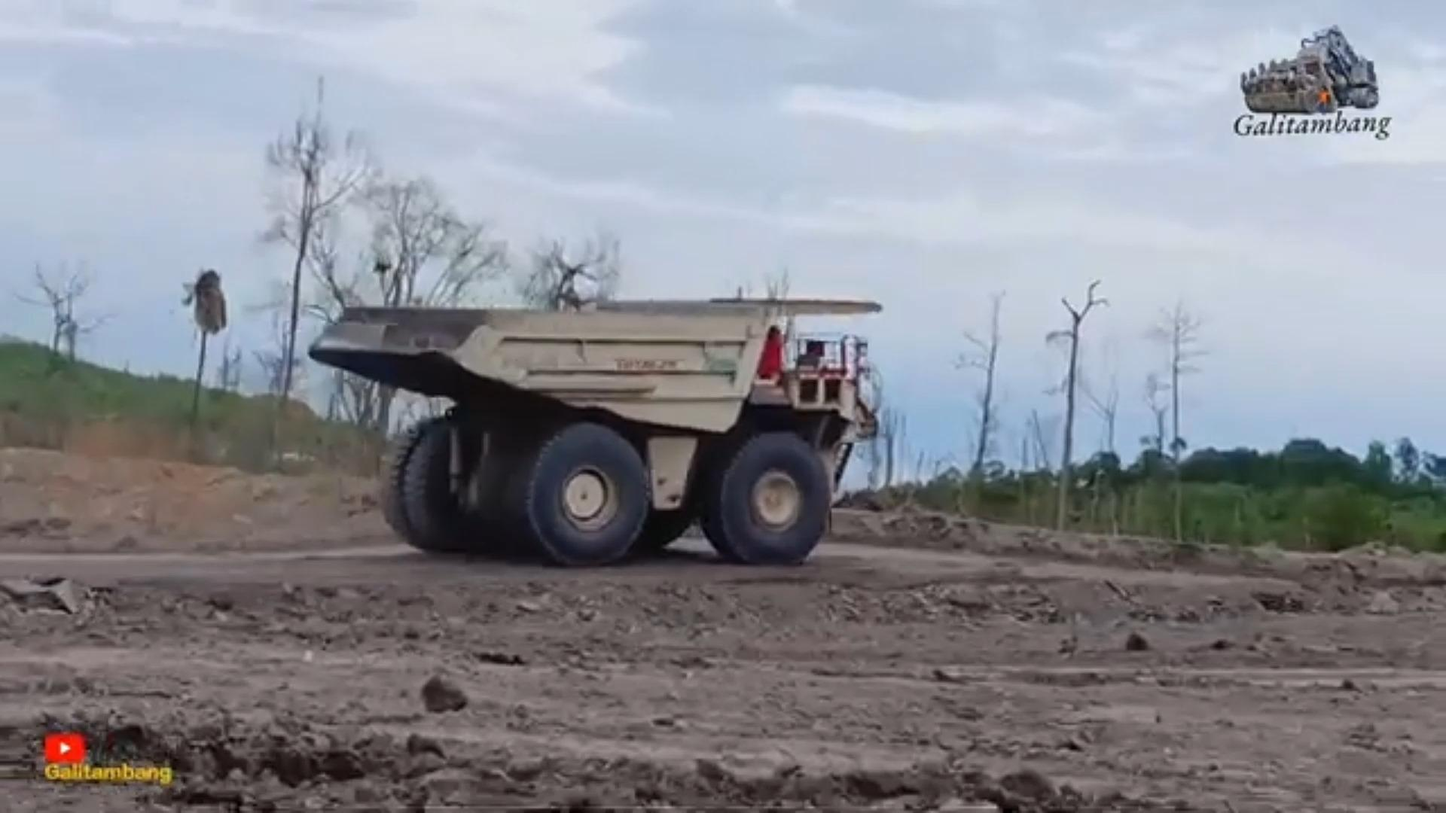HD-Truck: (309, 297, 880, 566)
